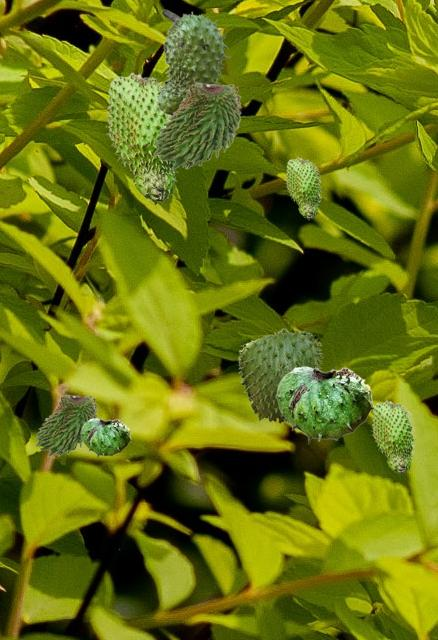guyabano: (105, 72, 179, 204), (238, 328, 323, 425), (154, 9, 230, 115), (152, 79, 241, 168), (275, 366, 373, 443), (34, 392, 97, 455), (371, 400, 415, 474), (285, 157, 321, 219), (80, 418, 130, 457)
